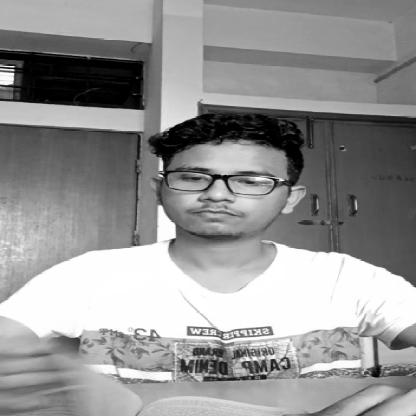Normal: (146, 116, 302, 233)
